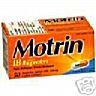grozi_18: (2, 16, 94, 80)
